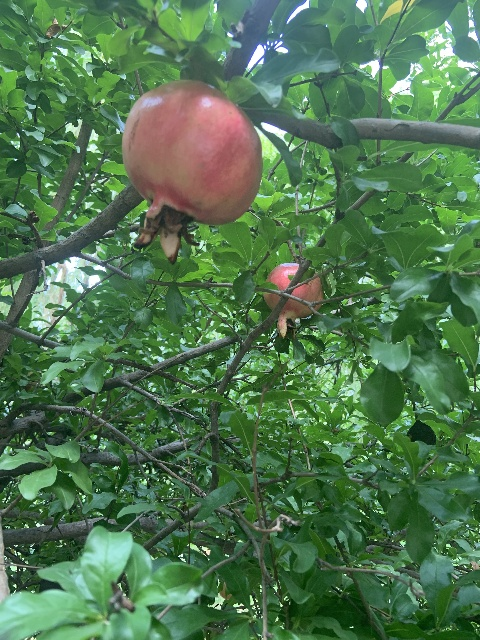ripe: (122, 80, 262, 262), (262, 263, 323, 338)
